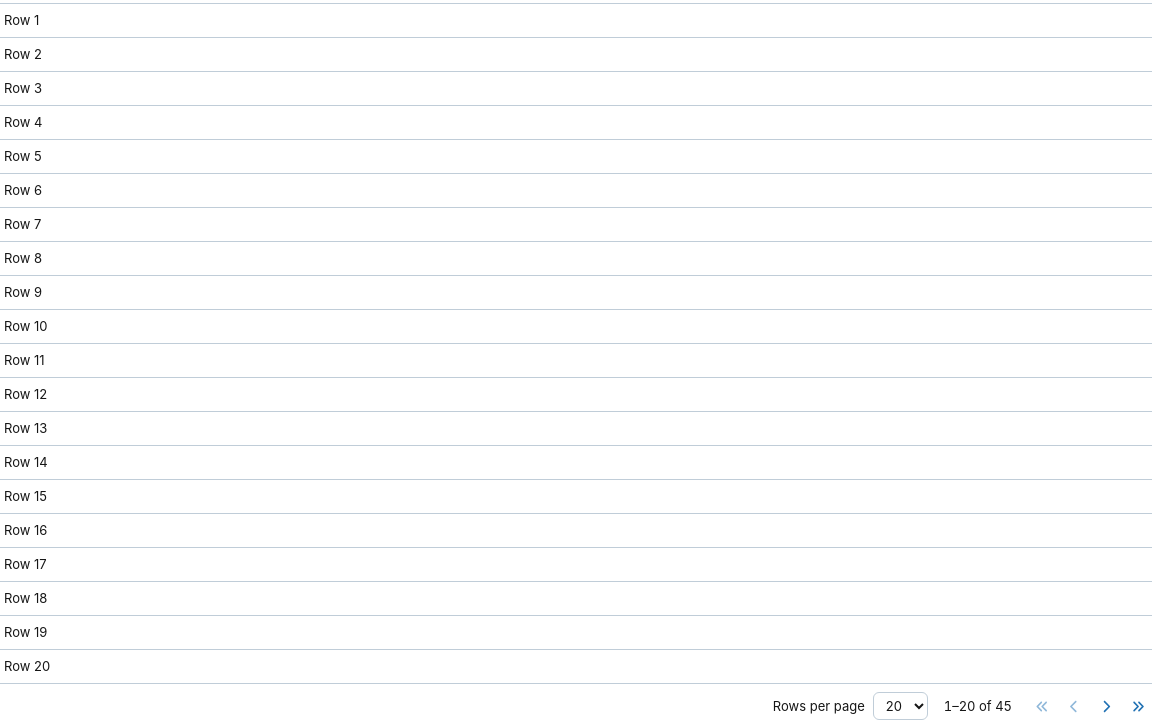
Scenario: EntityListTable › pagination › client mode › slices the next page
(page scrolled)
Click the button named "Next page" at (1106, 706), box [1092,692,1120,719]
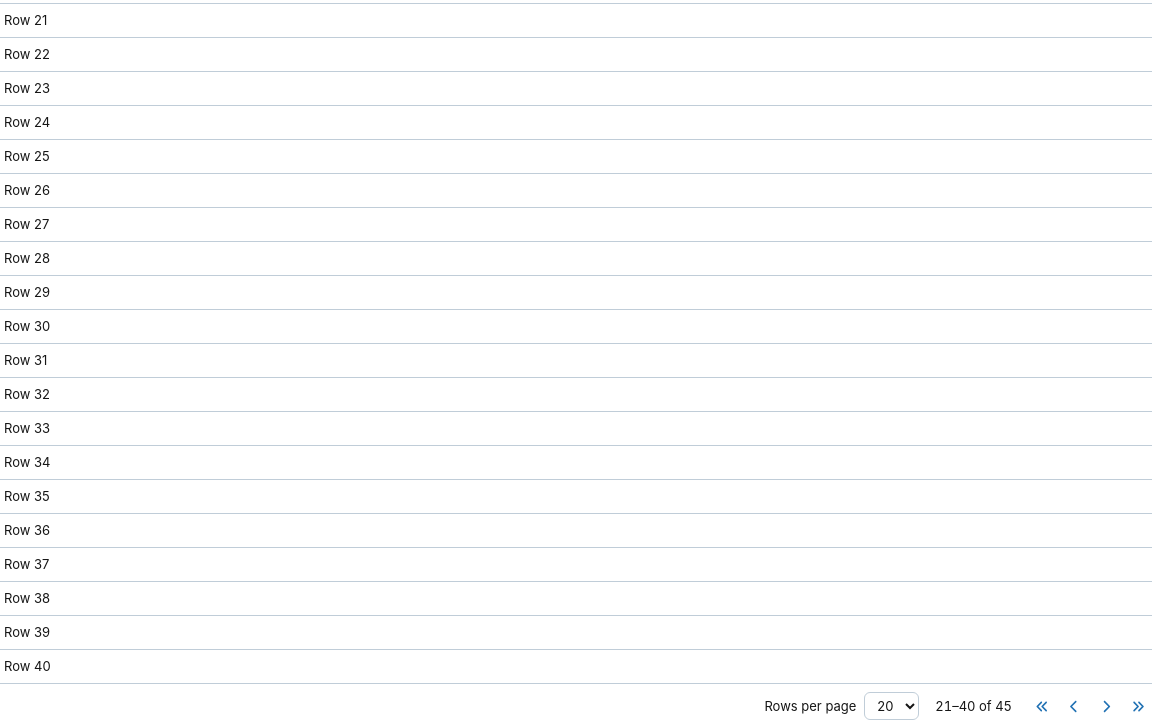
Check: the text "Row 21" is shown, box [4,12,47,28]
Check: the text "Row 1" is gone
Check: the text with test id "pagination-range" reads "21–40 of 45", box [935,698,1012,714]
Click the button named "Last page" at (1138, 706), box [1124,692,1152,719]
(page scrolled)
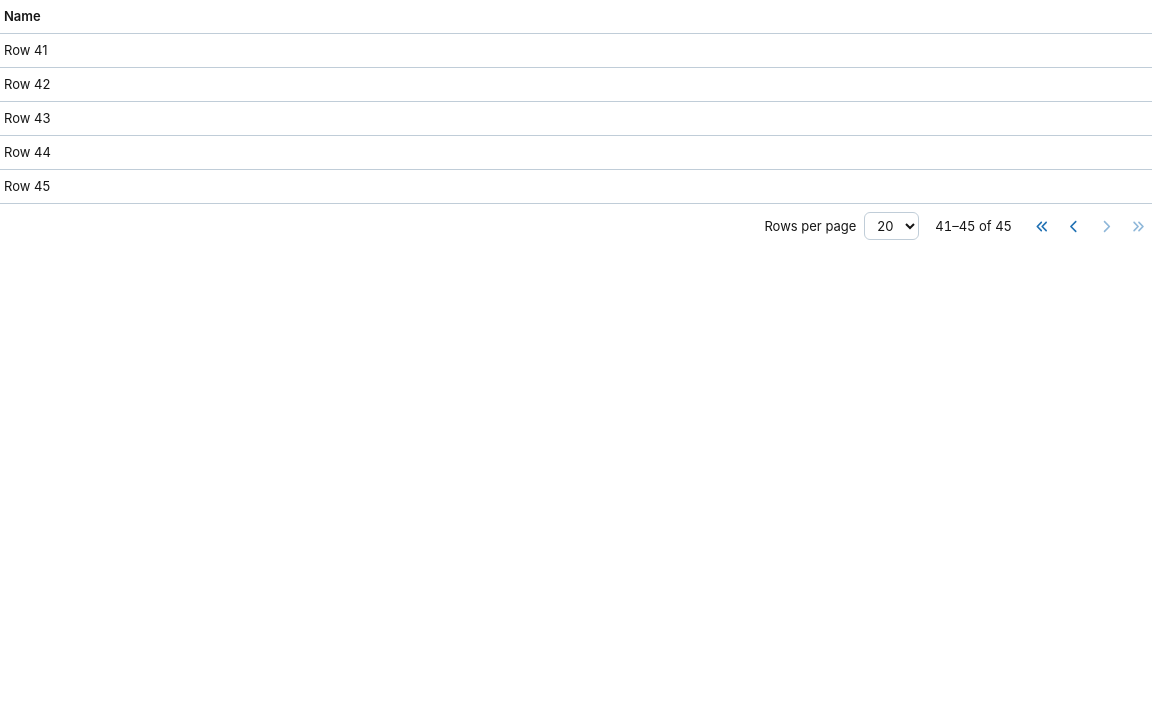
Check: the text with test id "pagination-range" reads "41–45 of 45", box [935,218,1012,234]
